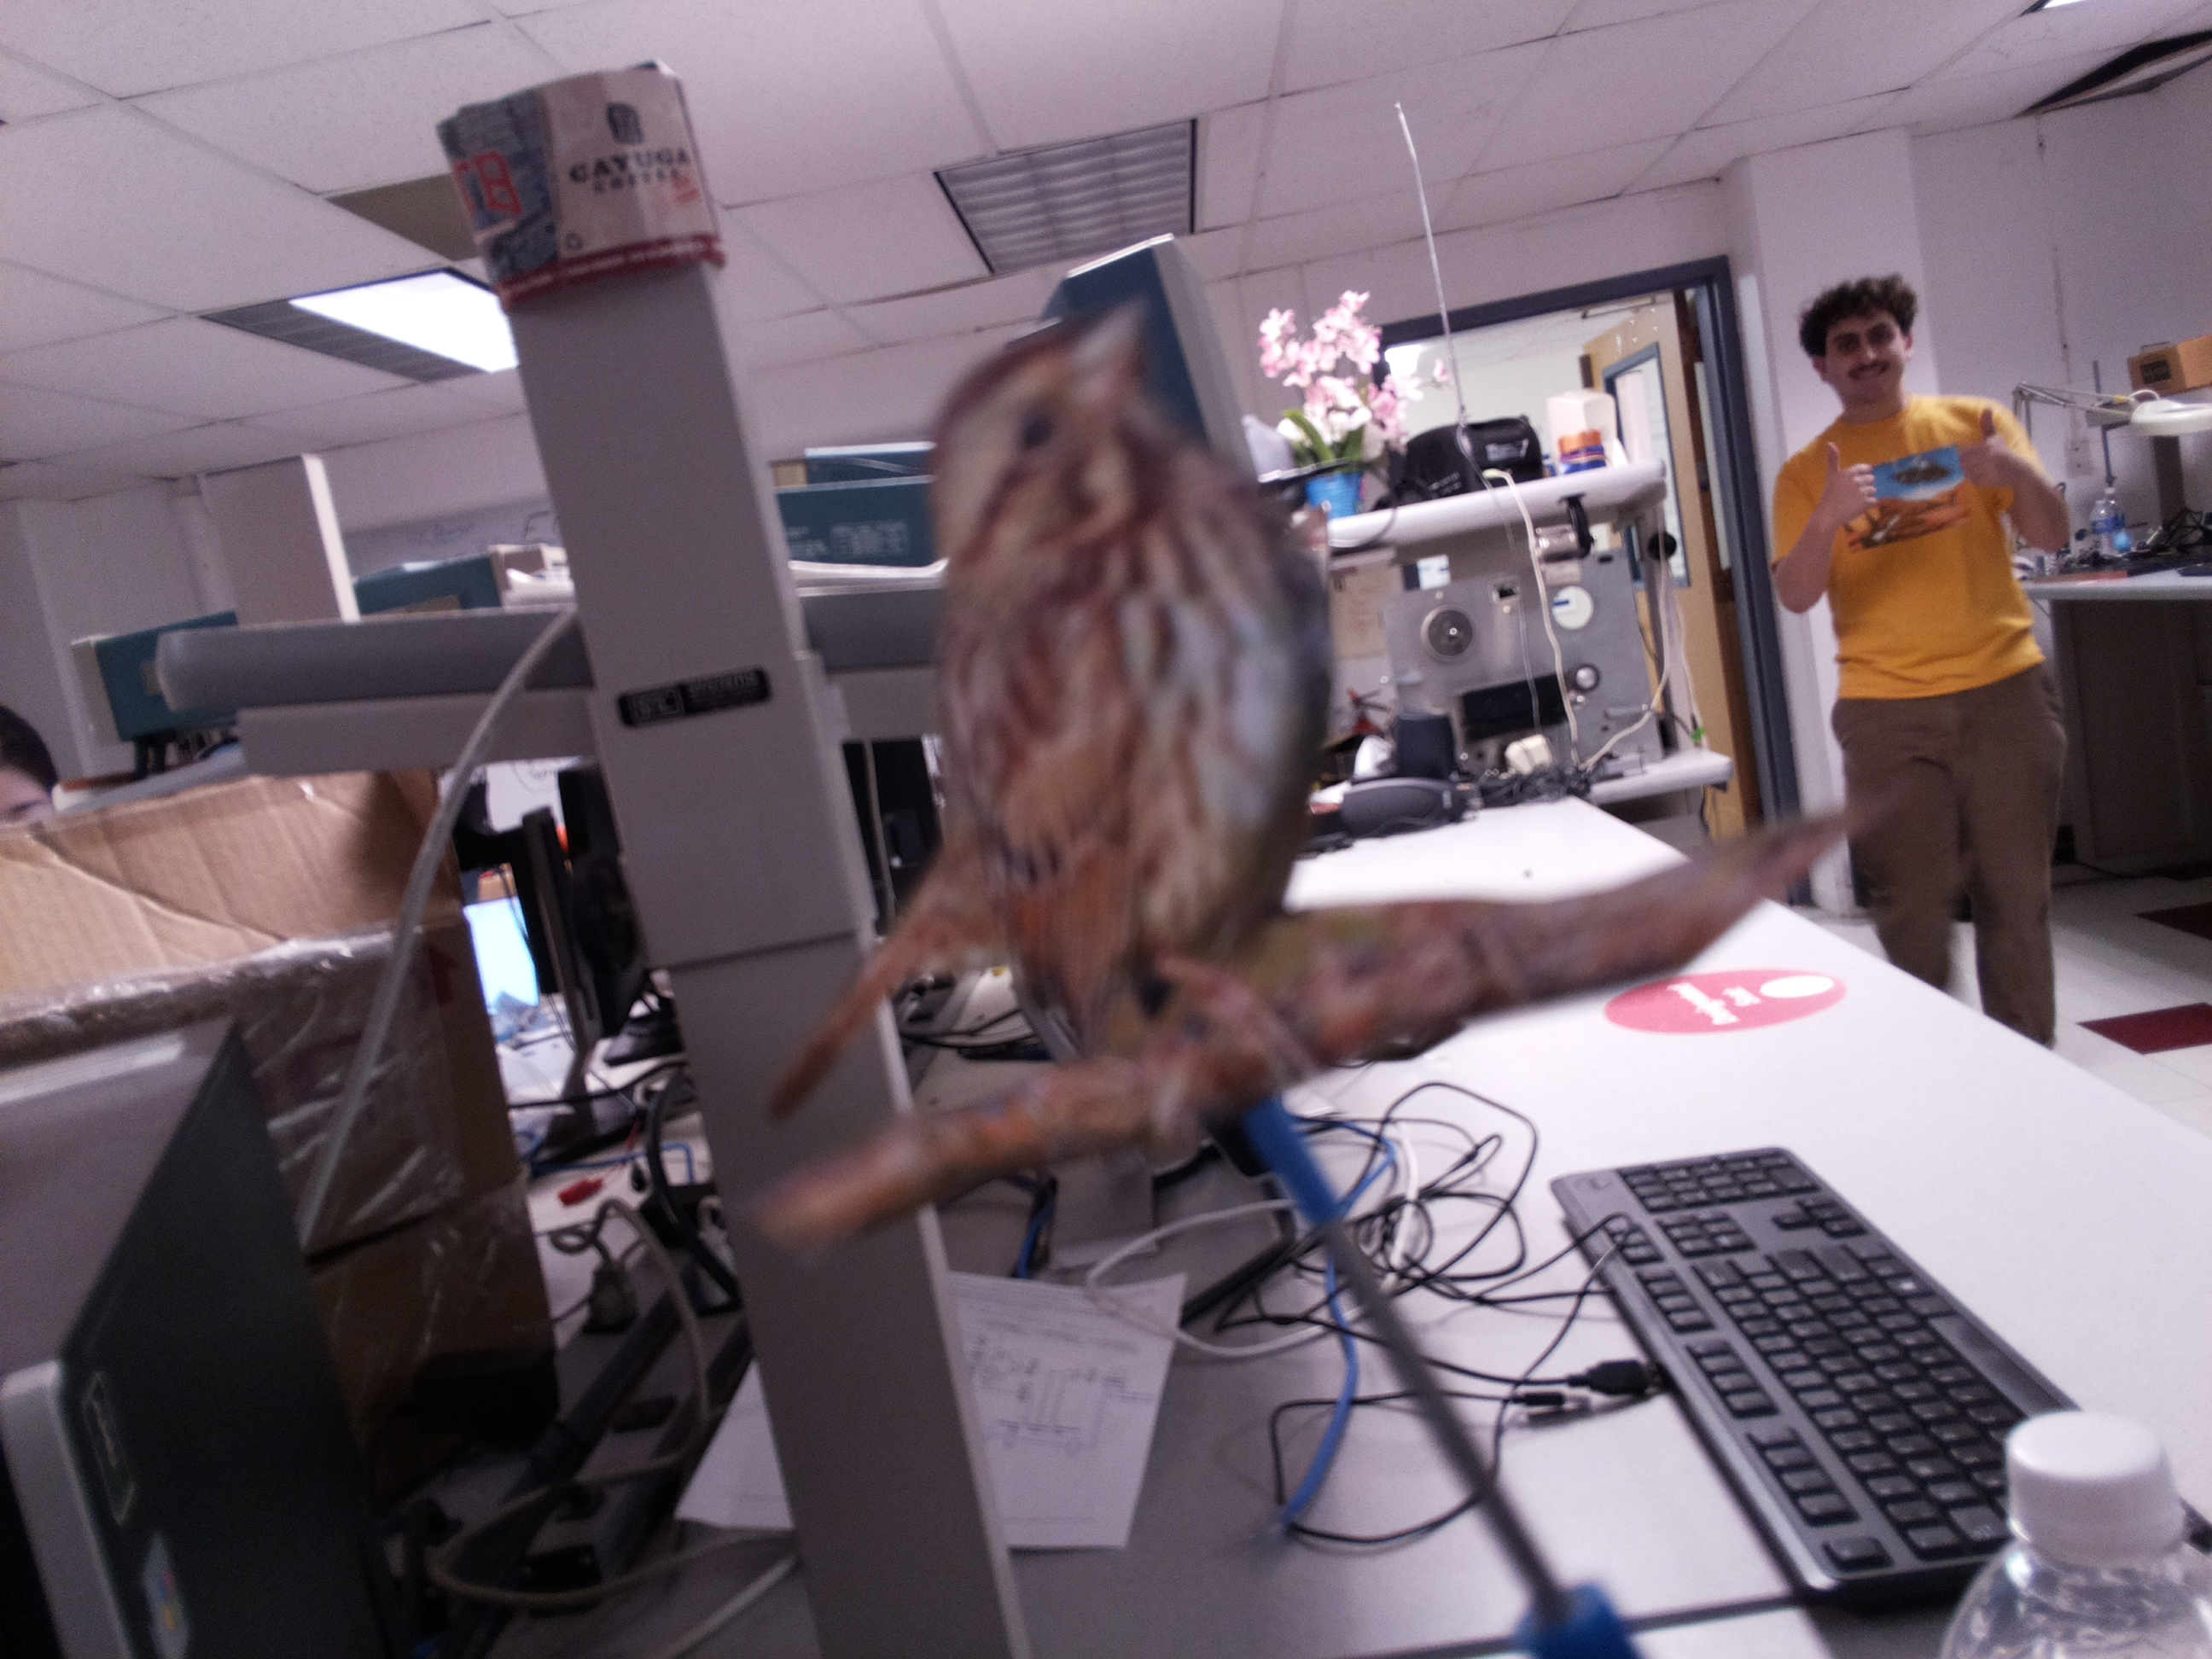bird: (752, 277, 1343, 1145)
